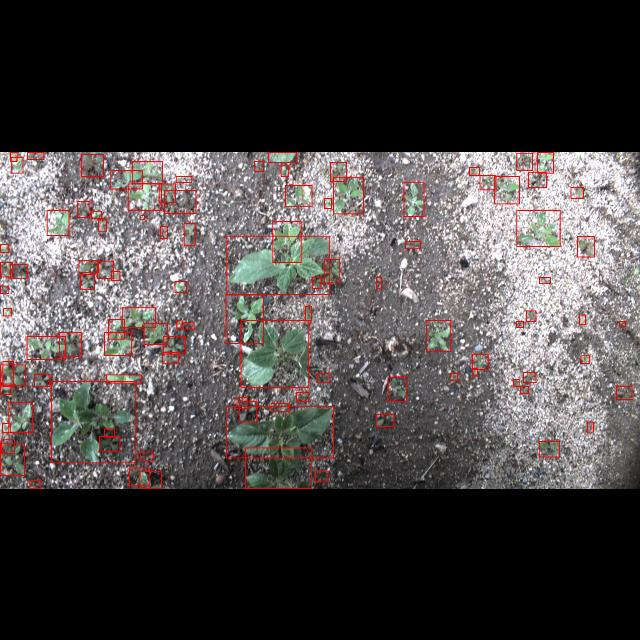crop: (226, 236, 330, 294), (226, 407, 334, 458), (241, 319, 309, 387), (245, 448, 311, 488), (268, 152, 296, 162)
weed: (52, 381, 136, 463), (226, 294, 264, 344), (516, 208, 560, 246), (273, 220, 301, 262), (333, 175, 363, 212), (27, 335, 65, 359), (128, 183, 162, 209), (0, 443, 24, 475), (404, 180, 424, 216), (427, 320, 451, 350), (8, 402, 32, 432), (164, 190, 196, 212), (494, 175, 520, 202), (122, 307, 156, 327), (104, 332, 132, 356), (132, 160, 162, 182), (110, 170, 142, 188), (286, 184, 312, 206), (47, 209, 69, 235), (1, 364, 26, 386), (59, 332, 81, 356), (82, 153, 104, 175), (144, 324, 168, 344), (388, 377, 406, 401), (163, 336, 185, 354), (324, 258, 340, 282), (239, 401, 257, 422), (129, 467, 149, 485), (537, 152, 553, 172), (578, 236, 594, 256), (539, 441, 559, 457), (159, 182, 175, 202), (109, 319, 125, 339), (140, 472, 160, 488), (98, 436, 120, 450), (330, 162, 346, 180), (2, 362, 14, 386), (106, 374, 142, 382), (98, 260, 114, 278), (516, 153, 532, 170), (480, 174, 496, 190), (528, 172, 546, 186), (183, 222, 194, 244), (79, 259, 99, 271), (616, 385, 632, 399), (472, 354, 488, 368), (10, 264, 26, 278), (376, 414, 394, 426), (80, 274, 94, 288), (78, 201, 90, 217), (34, 374, 50, 386), (11, 156, 23, 172), (2, 439, 15, 453), (0, 262, 12, 276), (163, 352, 179, 362), (571, 186, 583, 198), (271, 403, 289, 411), (174, 280, 186, 292), (236, 397, 248, 408), (316, 471, 328, 482), (316, 372, 329, 382), (140, 452, 154, 461), (524, 372, 536, 382), (312, 276, 322, 288), (406, 240, 420, 248), (296, 392, 308, 401), (526, 310, 536, 320), (254, 160, 264, 170), (110, 270, 120, 280), (1, 384, 11, 394), (281, 164, 289, 176), (176, 175, 192, 181), (160, 225, 168, 237), (98, 218, 106, 230), (28, 152, 44, 158), (305, 306, 311, 320), (470, 166, 480, 174), (580, 355, 590, 363), (540, 276, 550, 284), (92, 210, 102, 218), (2, 423, 10, 433), (30, 480, 40, 488), (104, 429, 114, 437), (324, 198, 332, 208), (376, 276, 382, 288), (182, 322, 194, 328), (450, 372, 458, 380), (3, 307, 11, 315), (1, 285, 9, 293), (1, 244, 9, 252), (10, 152, 18, 160), (520, 386, 528, 394), (580, 314, 586, 324), (587, 422, 593, 432), (516, 321, 524, 327), (472, 368, 478, 376), (176, 320, 182, 328), (619, 320, 625, 326), (514, 378, 518, 386), (140, 214, 144, 220)
